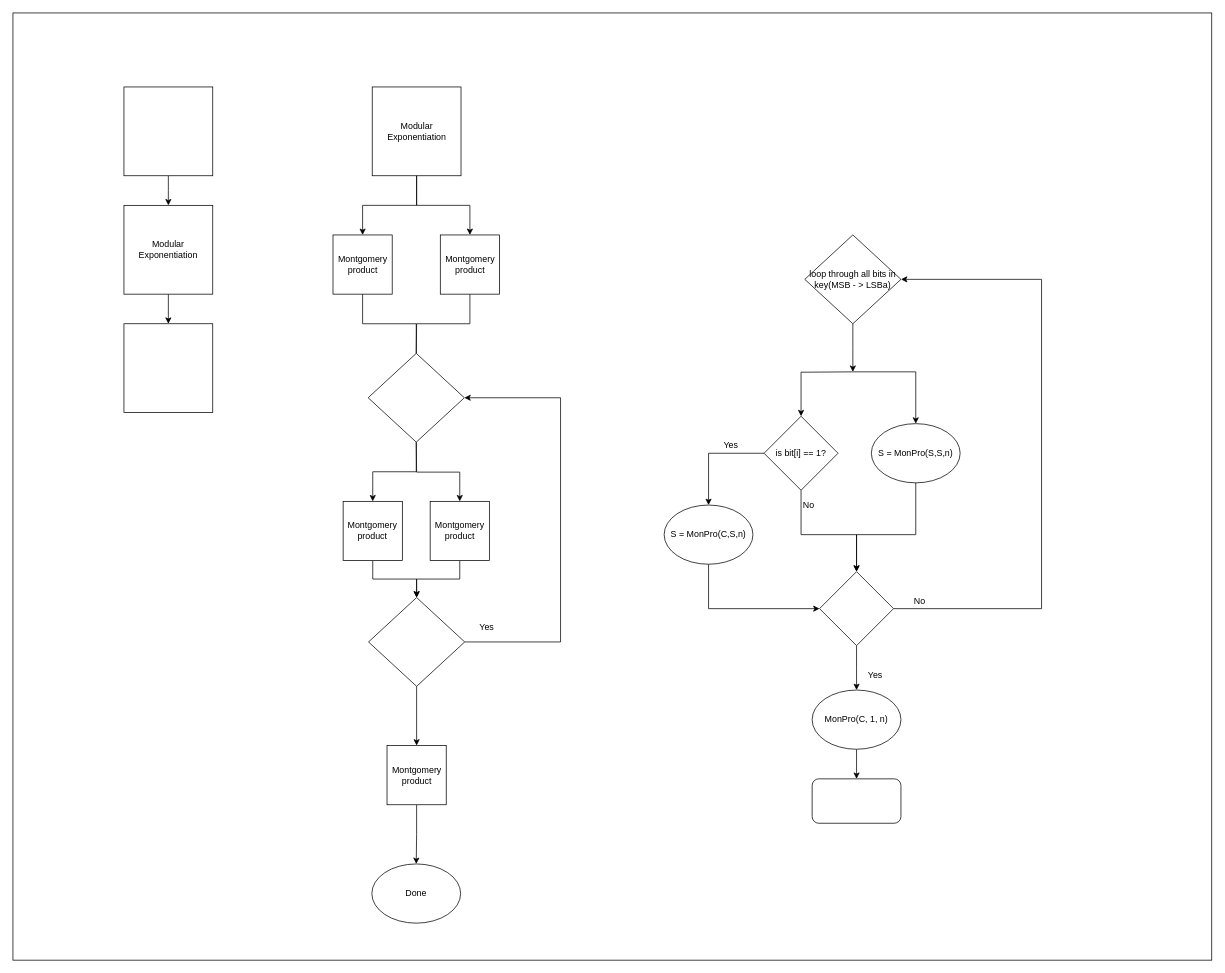
Image size: 1225x973. Some labels were removed from this diagram. The shapes that lost their labels are listed below. From the top down, each one's box as (x1, y1, x2, y2) in pixels, then its label:
(123, 86, 213, 176): Message, key
(123, 323, 213, 413): Encrypted / Decrypted message
(367, 353, 464, 442): loop through all bits in key(MSB - > LSB)
(819, 571, 894, 646): Loop done?
(368, 597, 465, 686): Loop finished?
(811, 778, 901, 823): Done RL-Binary Exponentiation
